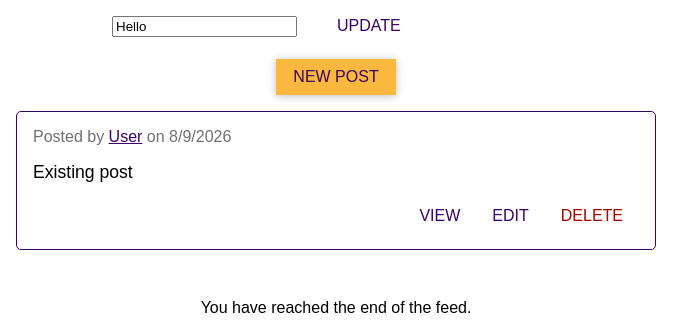
Test case: Feed › treats a deleted post as deleted when the refetch fails
Check: the text "Existing post" is shown, box [33,162,133,182]
Click the button "Delete".
click(592, 216)  # box [545,199,639,233]
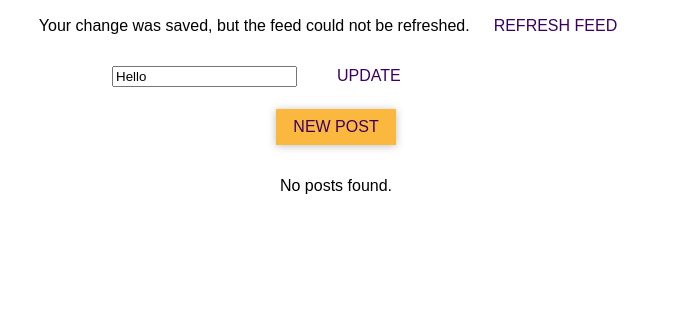
Check: the message named "Feed refresh" shows "Your change was saved, but the feed could not be refreshed.", box [39,17,470,34]
